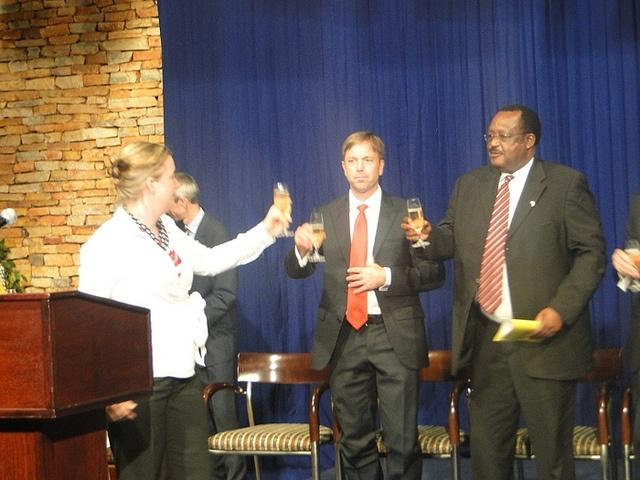Kursi: (203, 351, 338, 479), (414, 348, 472, 479), (569, 346, 623, 479)
